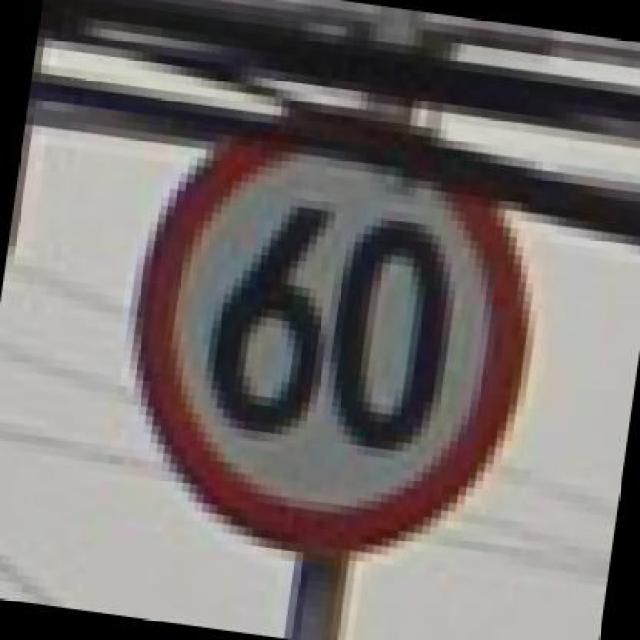Limite-60: (135, 113, 533, 554)
